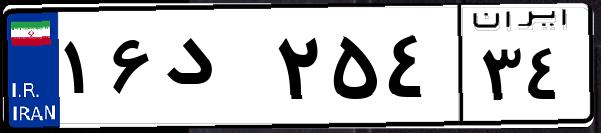1: (57, 26, 110, 100)
2: (270, 28, 330, 110)
3: (475, 38, 525, 113)
4: (385, 28, 445, 110), (525, 38, 570, 115)
5: (330, 28, 385, 110)
6: (110, 28, 158, 98)
د: (158, 20, 270, 120)
